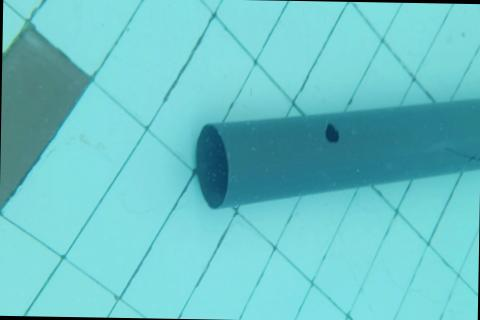kebocoran: (324, 123, 340, 143)
keretakan: (447, 147, 480, 164)
